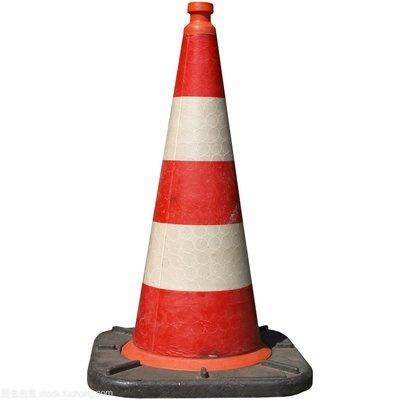cone_barrel: (114, 3, 278, 368)
